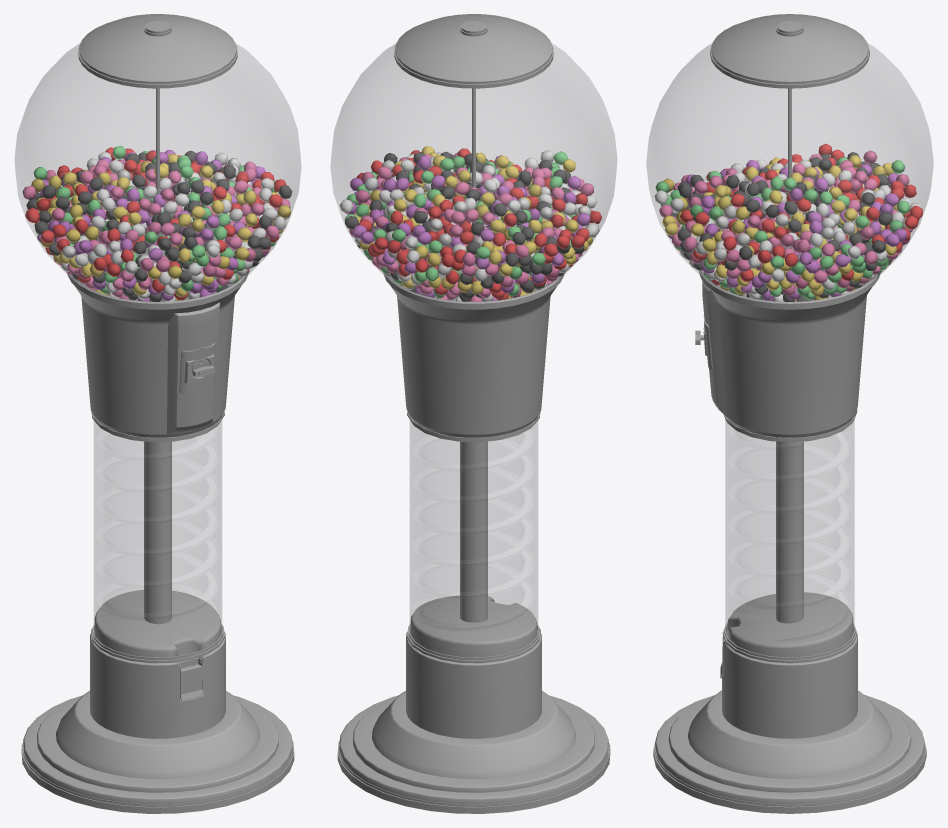
The model's file is gumball_machine_lod1.fbx.
3 views of the same model, side by side, from view 1: azimuth 30°, elevation 25°; view 2: azimuth 150°, elevation 25°; view 3: azimuth 270°, elevation 25° (orthographic).
Visible parts, largest first — view 1: polySurface2033, polySurface1558, polySurface2034, polySurface2035; view 2: polySurface2033, polySurface1558, polySurface2035, polySurface2034; view 3: polySurface2033, polySurface1558, polySurface2034, polySurface2035.
Part boxes in pixels (x1,y1,x2,y2): polySurface2033: (14,43,301,656); polySurface1558: (21,14,294,813); polySurface2034: (56,151,292,301); polySurface2035: (22,146,257,285); polySurface2033: (330,43,617,656); polySurface1558: (337,14,610,813); polySurface2035: (339,170,584,301); polySurface2034: (350,146,601,289); polySurface2033: (646,43,933,656); polySurface1558: (653,14,926,813); polySurface2034: (654,157,814,301); polySurface2035: (792,143,922,300).
Size of the model in its own units: 36.06 by 101 by 36.05.
